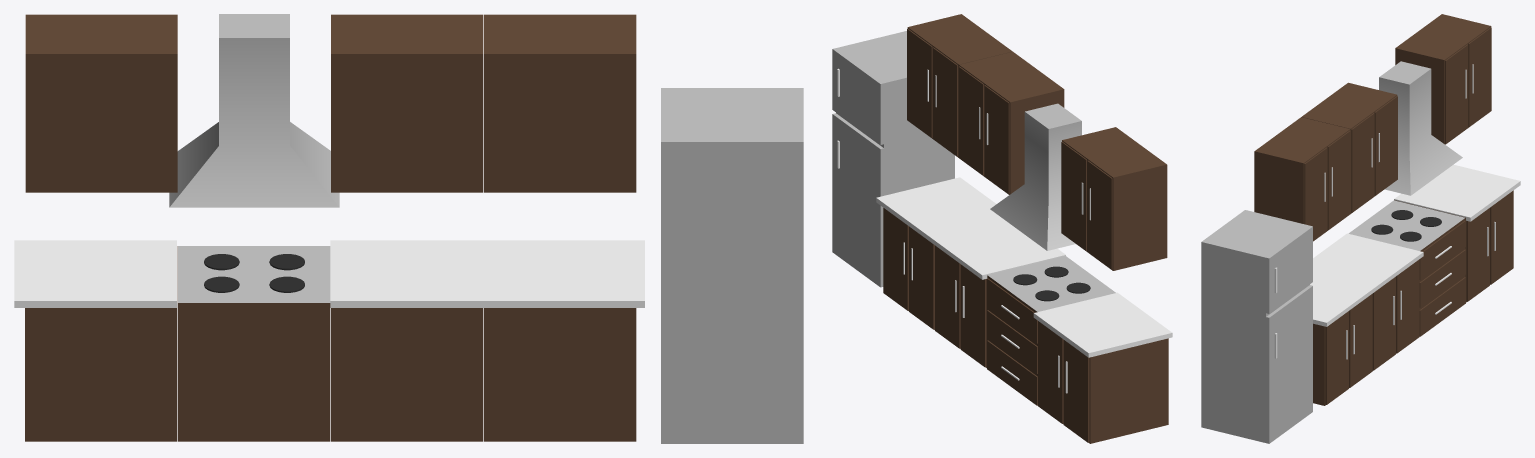
File: kitchentest.glb
The picture shows the model from 3 angles, left to right: view 1: azimuth 30°, elevation 25°; view 2: azimuth 150°, elevation 25°; view 3: azimuth 270°, elevation 25°; orthographic projection. The views are drawn at different scales.
Visible parts, largest first — view 1: buffer-0-mesh-0 (×4); view 2: buffer-0-mesh-0 (×4); view 3: buffer-0-mesh-0 (×4).
Boxes of the visible parts, x1=… form: buffer-0-mesh-0 (×4): x1=14, y1=14, x2=803, y2=443; buffer-0-mesh-0 (×4): x1=832, y1=14, x2=1172, y2=443; buffer-0-mesh-0 (×4): x1=1201, y1=14, x2=1520, y2=443.
Size of the model in its own units: 0.1 by 0.0576 by 0.0695.
